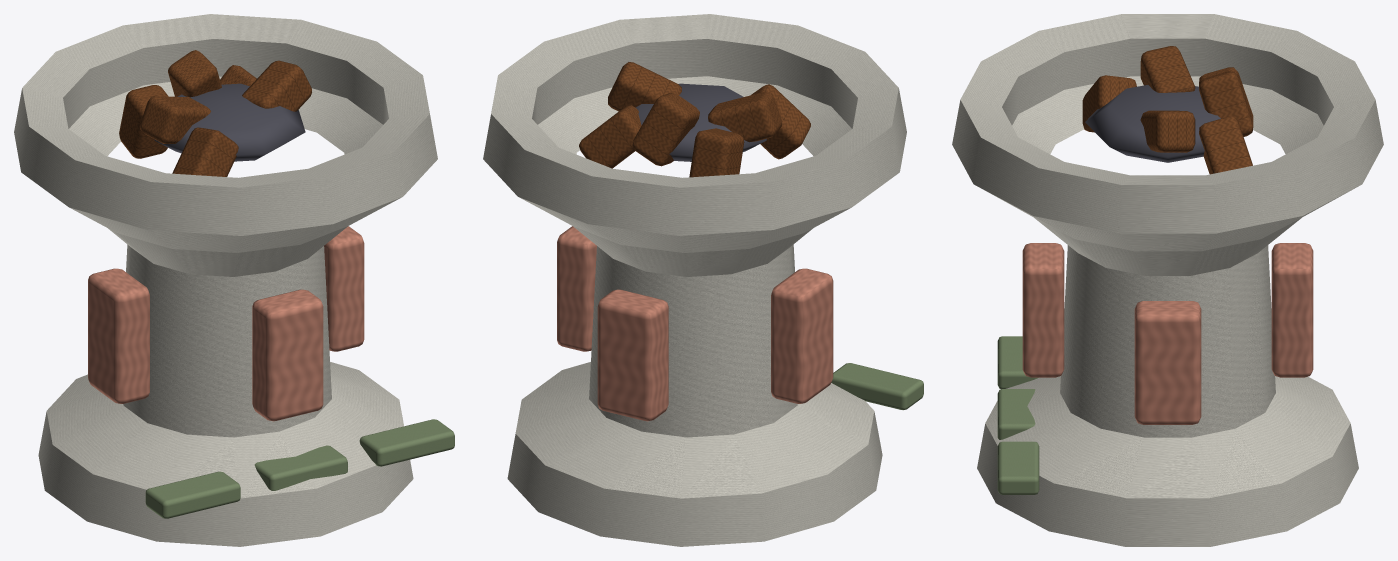
Rendered from jungle-temple-and-stone-city-stone-brazier-b07c51d5__36131.glb.
The picture shows the model from 3 angles, left to right: view 1: azimuth 30°, elevation 25°; view 2: azimuth 150°, elevation 25°; view 3: azimuth 270°, elevation 25°; orthographic projection.
Visible parts, largest first — view 1: stone-brazier; view 2: stone-brazier; view 3: stone-brazier.
Boxes of the visible parts, bbox=[...] form: stone-brazier: bbox=[14, 14, 454, 546]; stone-brazier: bbox=[483, 14, 923, 546]; stone-brazier: bbox=[952, 14, 1383, 546].
Size of the model in its own units: 1.01 by 1.05 by 1.04.
5 materials, 4 textured.
